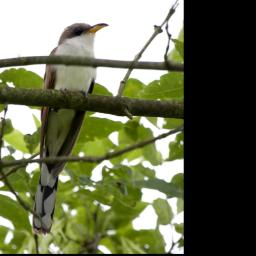Cuckoo: (32, 21, 110, 236)
